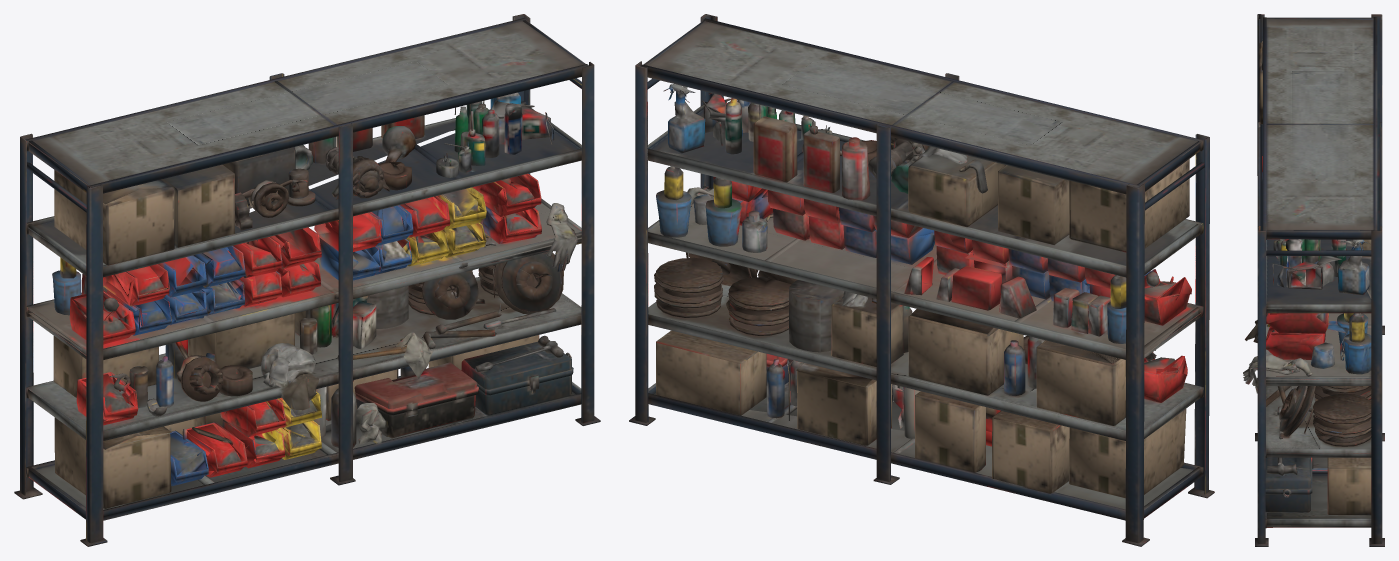
Rendered from hylly_meshy.glb.
The picture shows the model from 3 angles, left to right: view 1: azimuth 30°, elevation 25°; view 2: azimuth 150°, elevation 25°; view 3: azimuth 270°, elevation 25°; orthographic projection. The views are drawn at different scales.
Bounding box in the file's own units: 3.31 × 2.2 × 0.9002.
1 material, 1 textured.
